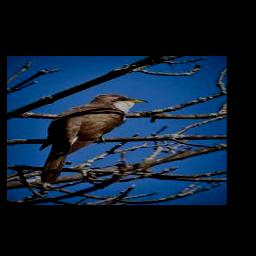Cuckoo: (38, 94, 146, 183)
